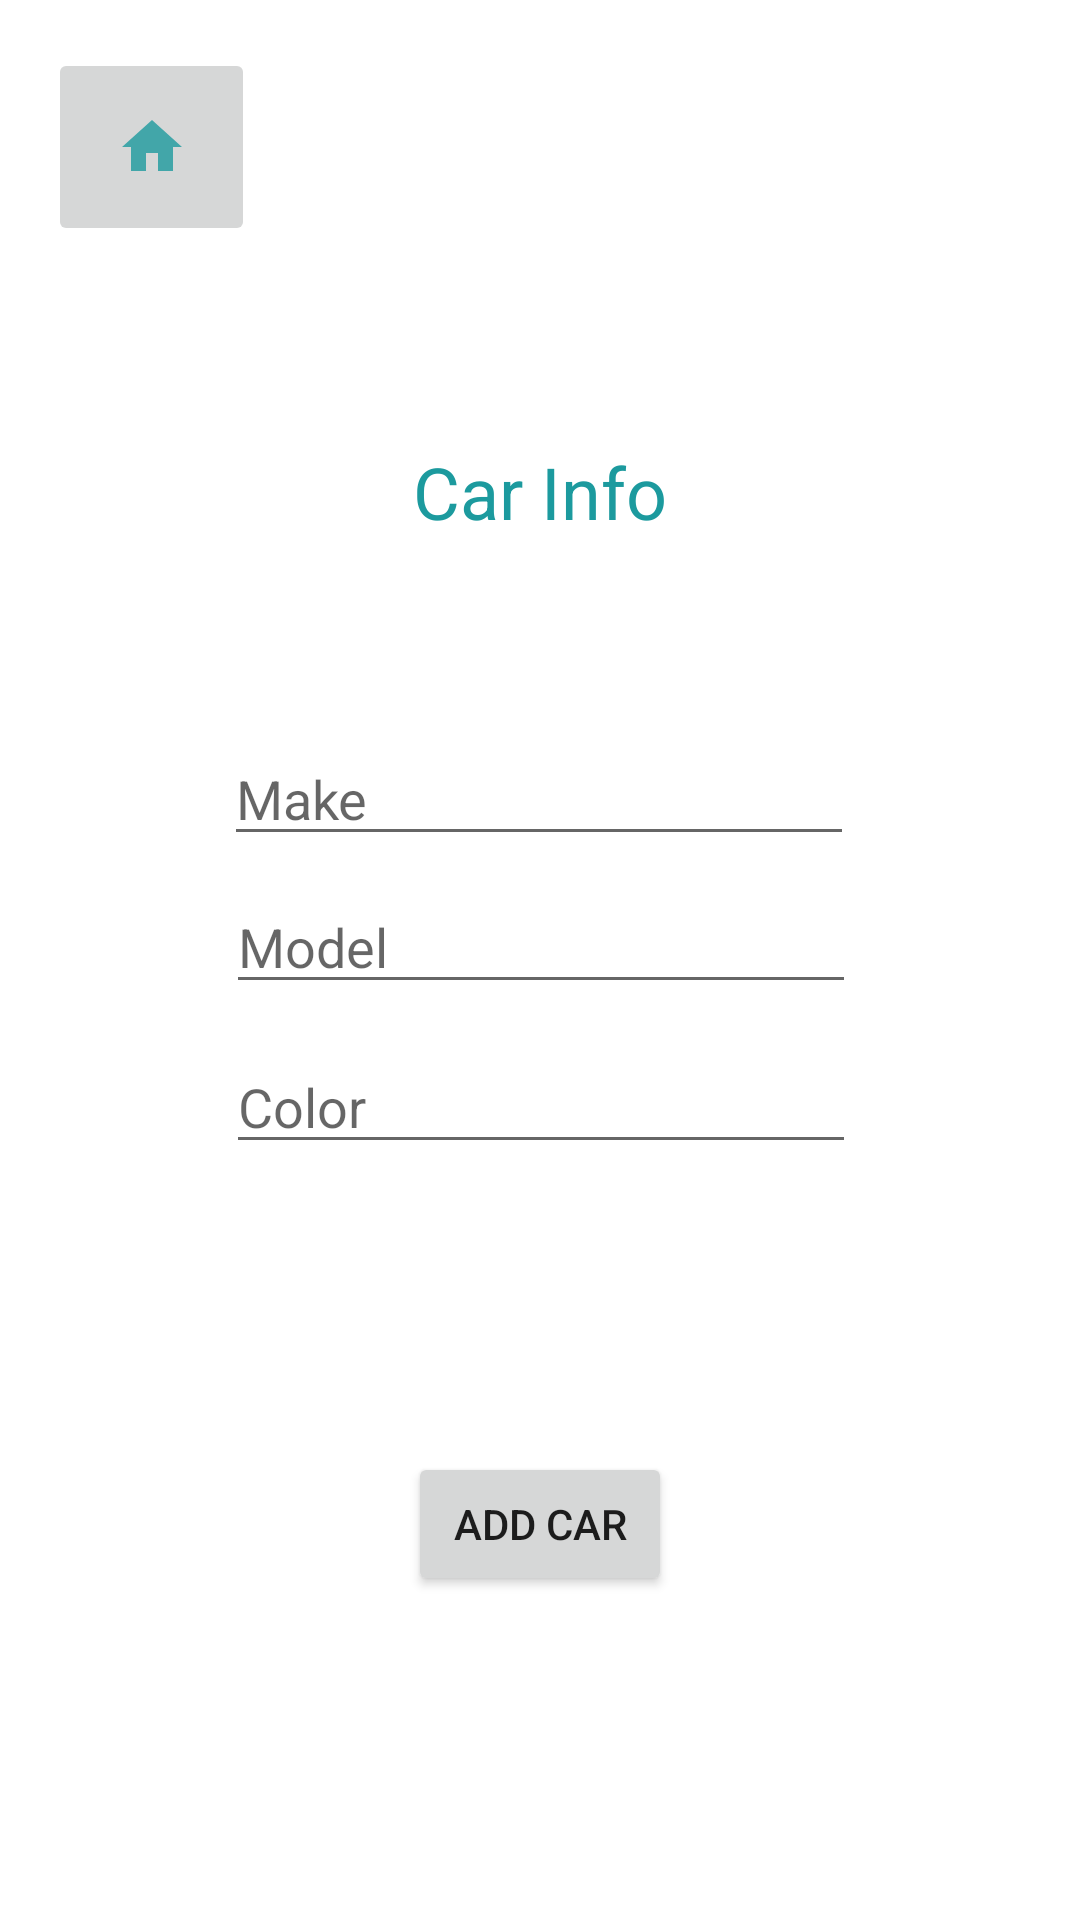

Icon click points for this 1080*1920 phone screenshot, format (x,y):
home: (151,147)
